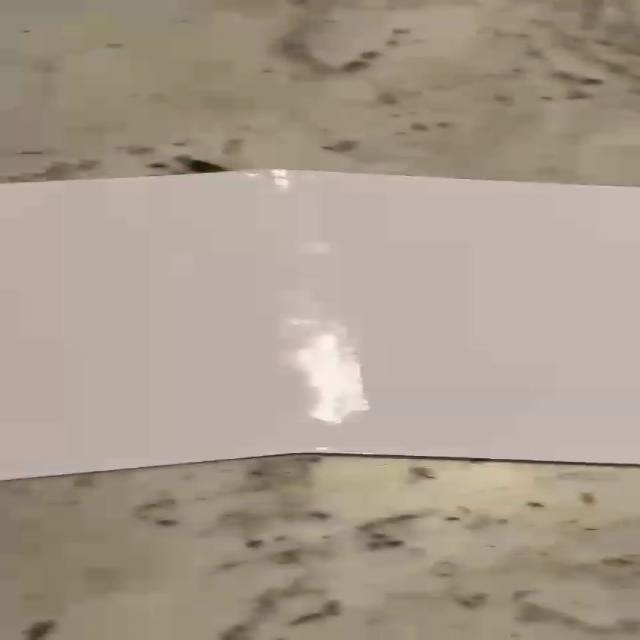road: (3, 170, 639, 480)
